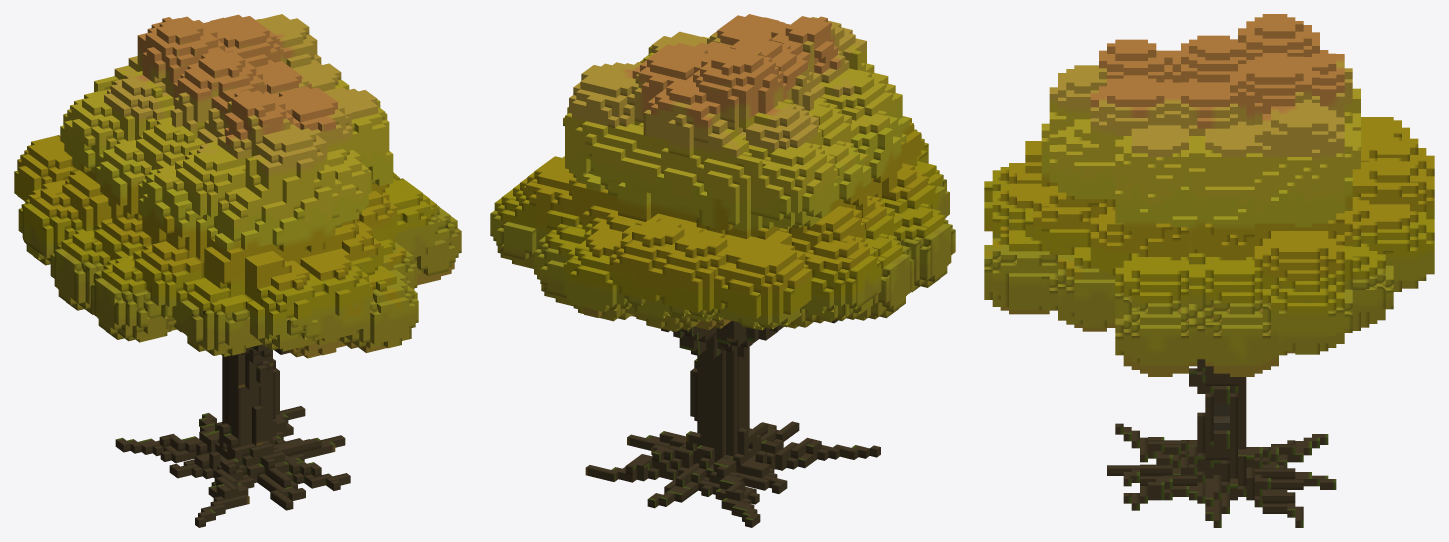
The model's file is oak_tree_autumn.fbx.
3 views of the same model, side by side, from view 1: azimuth 30°, elevation 25°; view 2: azimuth 150°, elevation 25°; view 3: azimuth 270°, elevation 25° (orthographic). The views are drawn at different scales.
Visible parts, largest first — view 1: oak_tree_autumn; view 2: oak_tree_autumn; view 3: oak_tree_autumn.
Boxes of the visible parts, x1,y1,x2,y2 form: oak_tree_autumn: (14,14,461,527); oak_tree_autumn: (490,14,955,527); oak_tree_autumn: (984,14,1434,527).
Size of the model in its own units: 1064 by 1256 by 1171.
1 material, 1 textured.
